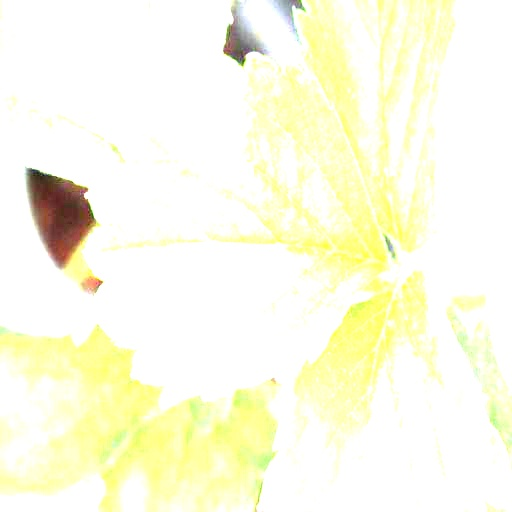Powdery Mildew Leaf: (82, 51, 392, 401), (254, 250, 511, 511)
